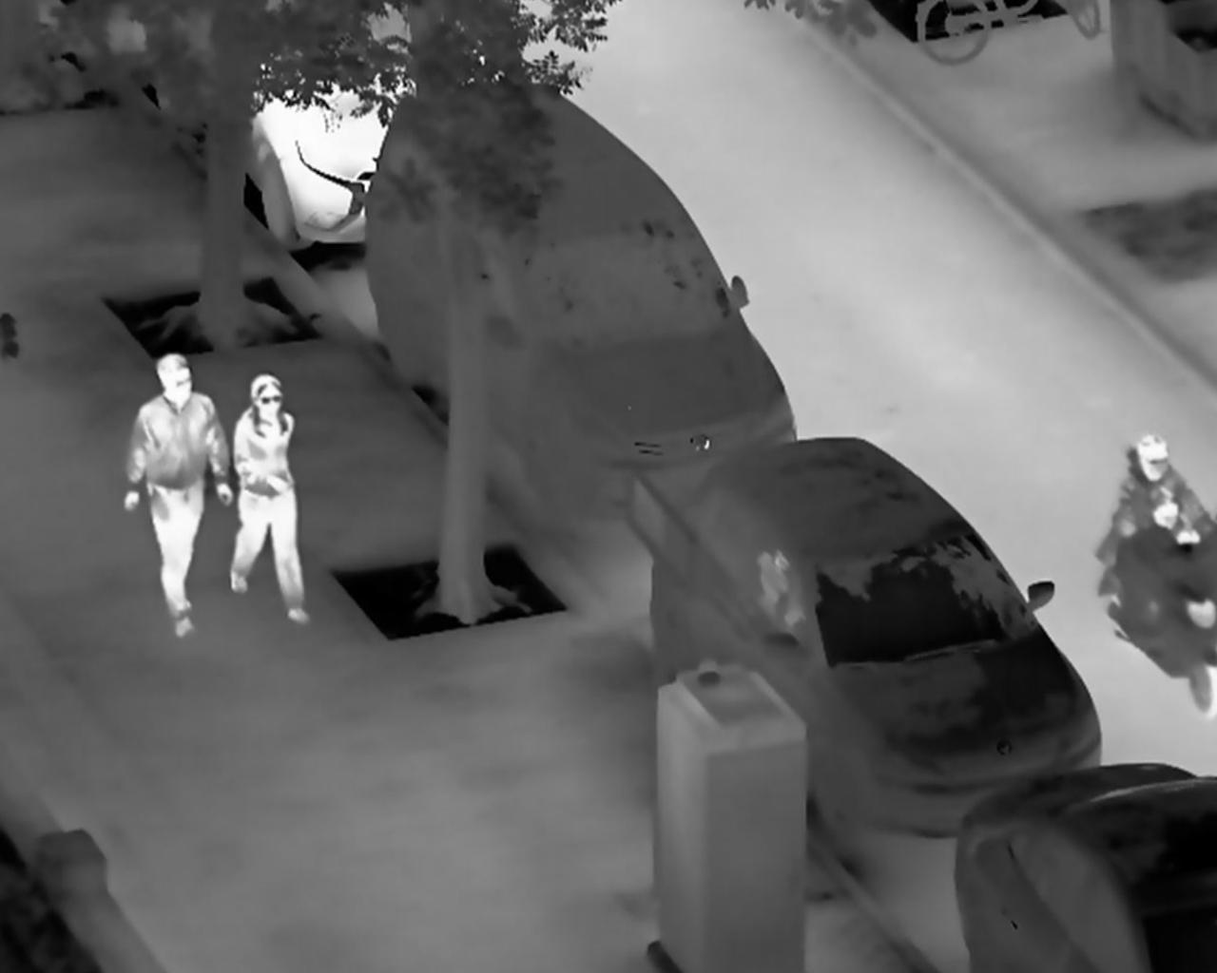person: (120, 349, 235, 640), (224, 372, 318, 626), (1109, 432, 1217, 568)
